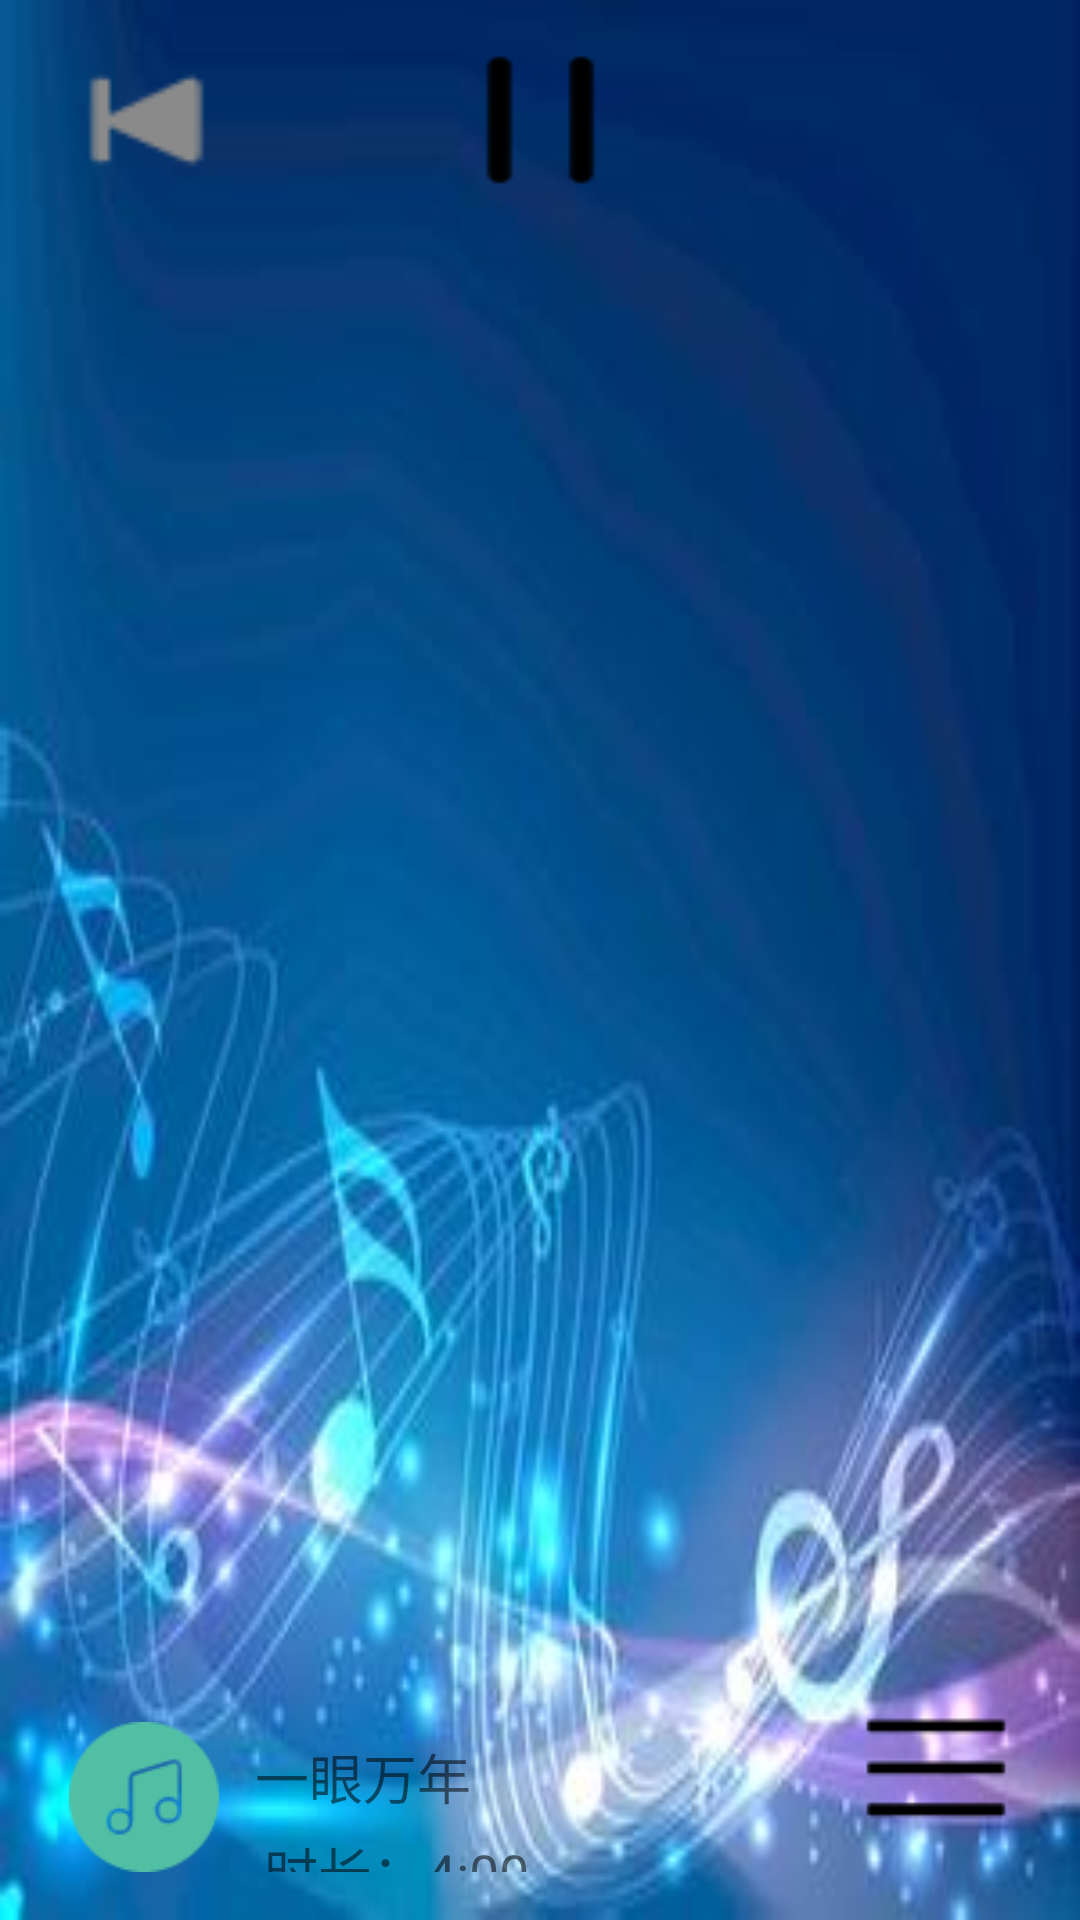

Where to tap for icons on this 1080×1920 app screen, as point (x, y):
back to list: point (936, 1776)
music: point (144, 1797)
previous music: point (167, 112)
stop music: point (540, 120)
